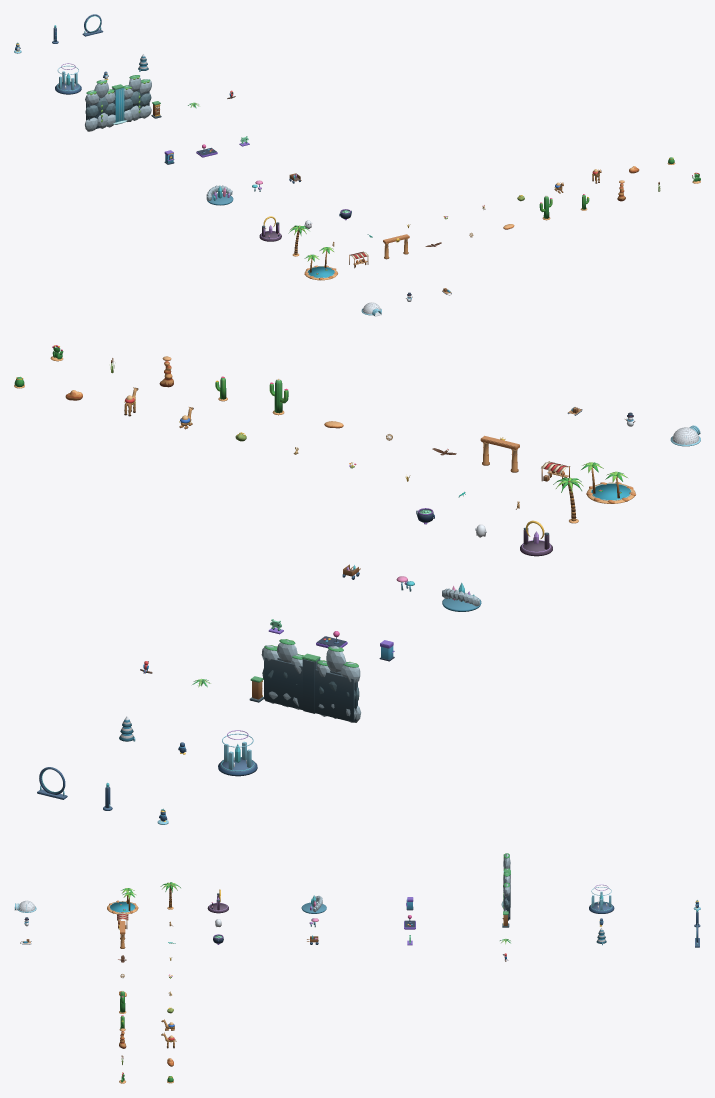
File: AllStages.fbx
3 renders of one model, top to bottom at view 1: azimuth 30°, elevation 25°; view 2: azimuth 150°, elevation 25°; view 3: azimuth 270°, elevation 25°, orthographic. The views are drawn at different scales.
Visible parts, largest first — view 1: Jungle_TempleWaterfall, Desert_OasisGarden, AbsoluteZero_FrozenHeart; view 2: Jungle_TempleWaterfall, Desert_OasisGarden, AbsoluteZero_FrozenHeart, Crystal_PrismaticGeode; view 3: Jungle_TempleWaterfall, Desert_OasisGarden, AbsoluteZero_FrozenHeart.
Boxes of the visible parts, x1,y1,x2,y2 form: Jungle_TempleWaterfall: [85, 75, 151, 131]; Desert_OasisGarden: [304, 247, 337, 280]; AbsoluteZero_FrozenHeart: [55, 63, 81, 94]; Jungle_TempleWaterfall: [261, 639, 361, 722]; Desert_OasisGarden: [581, 462, 635, 503]; AbsoluteZero_FrozenHeart: [218, 730, 257, 776]; Crystal_PrismaticGeode: [442, 582, 481, 611]; Jungle_TempleWaterfall: [501, 853, 510, 920]; Desert_OasisGarden: [107, 888, 138, 914]; AbsoluteZero_FrozenHeart: [589, 884, 614, 913].
Size of the model in its own units: 264 by 30.57 by 402.
Materials: 1 (1 with a texture image).
